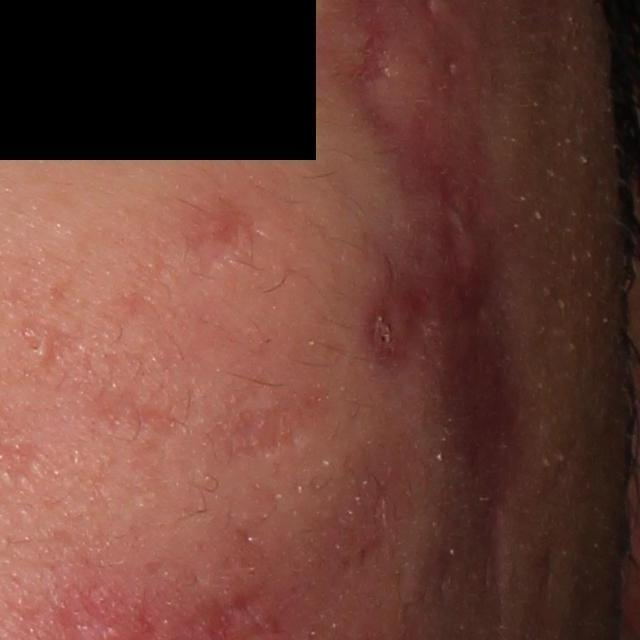atrophic_scar: (366, 110, 531, 497), (63, 344, 193, 438), (207, 380, 340, 465), (181, 200, 262, 284), (17, 314, 81, 374)
